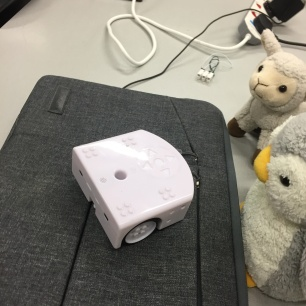thymio: (61, 127, 204, 248)
